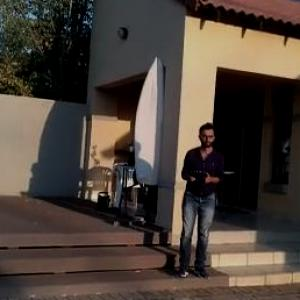follow: (178, 117, 232, 285)
